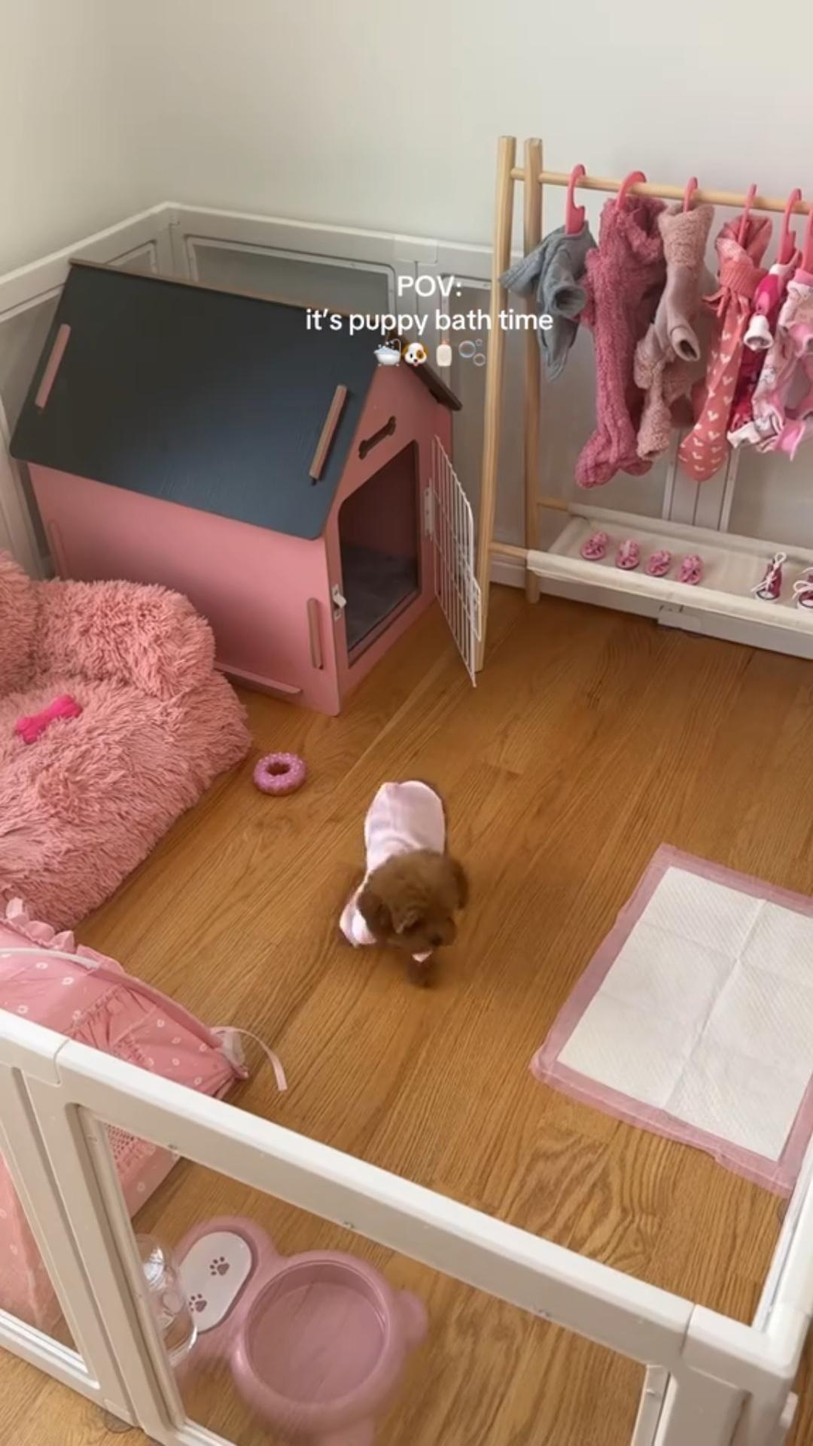puppy-dog: (333, 771, 475, 985)
